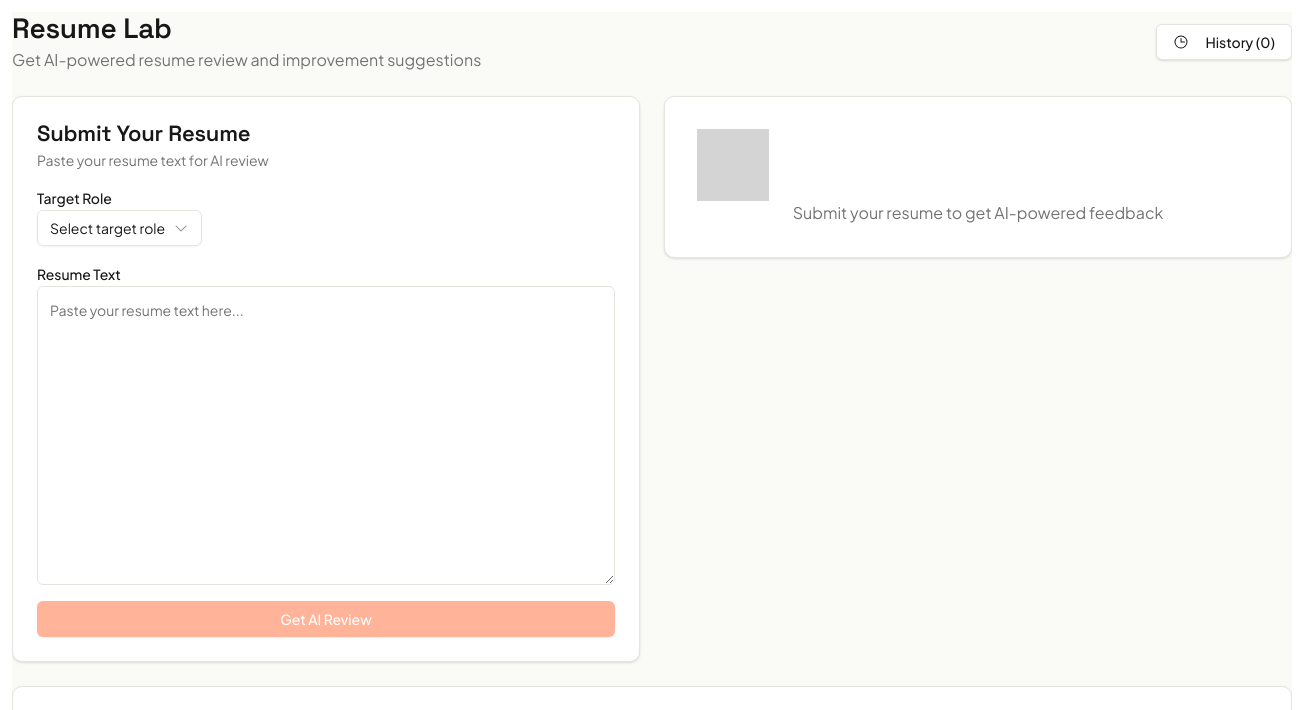
Test: ResumeLab › enables the review button once resume text is entered
In the text box with placeholder "Paste your resume text here...": (326, 436) [37,286,615,586], type "Experienced Amazon PPC VA"
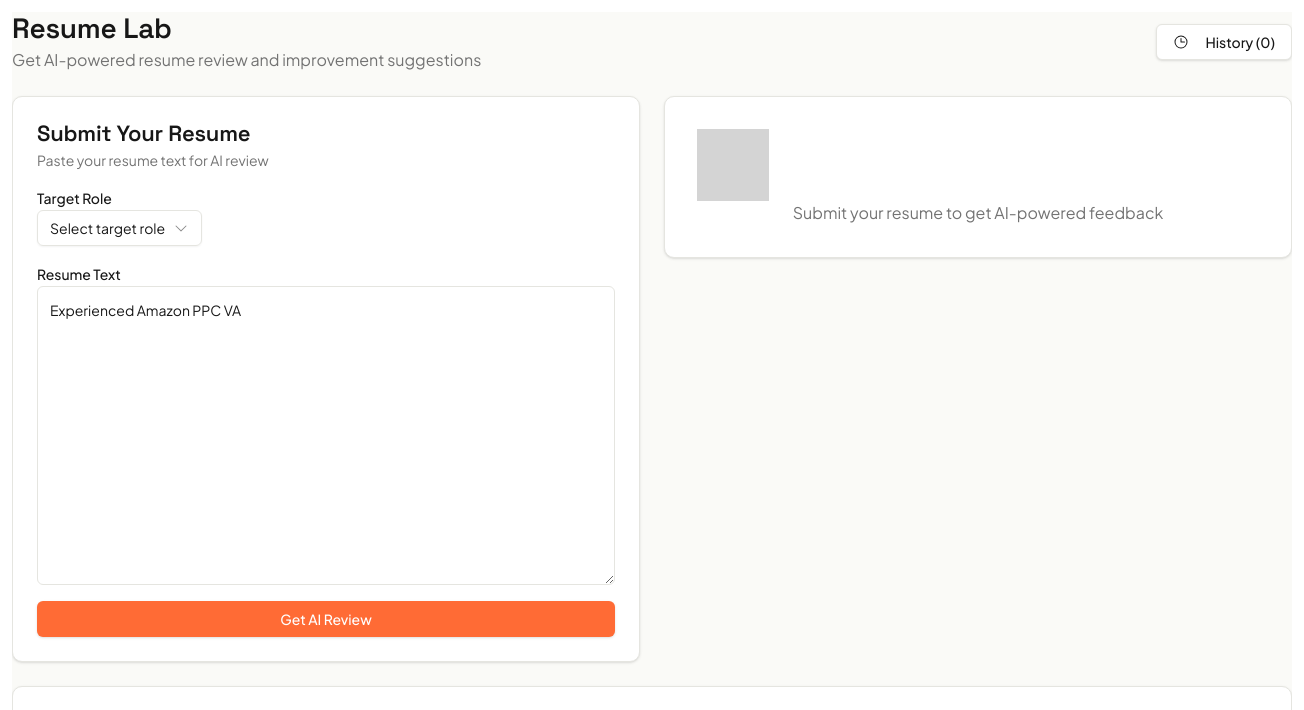
Expected: the button "Get AI Review" is enabled, [37,602,615,638]
